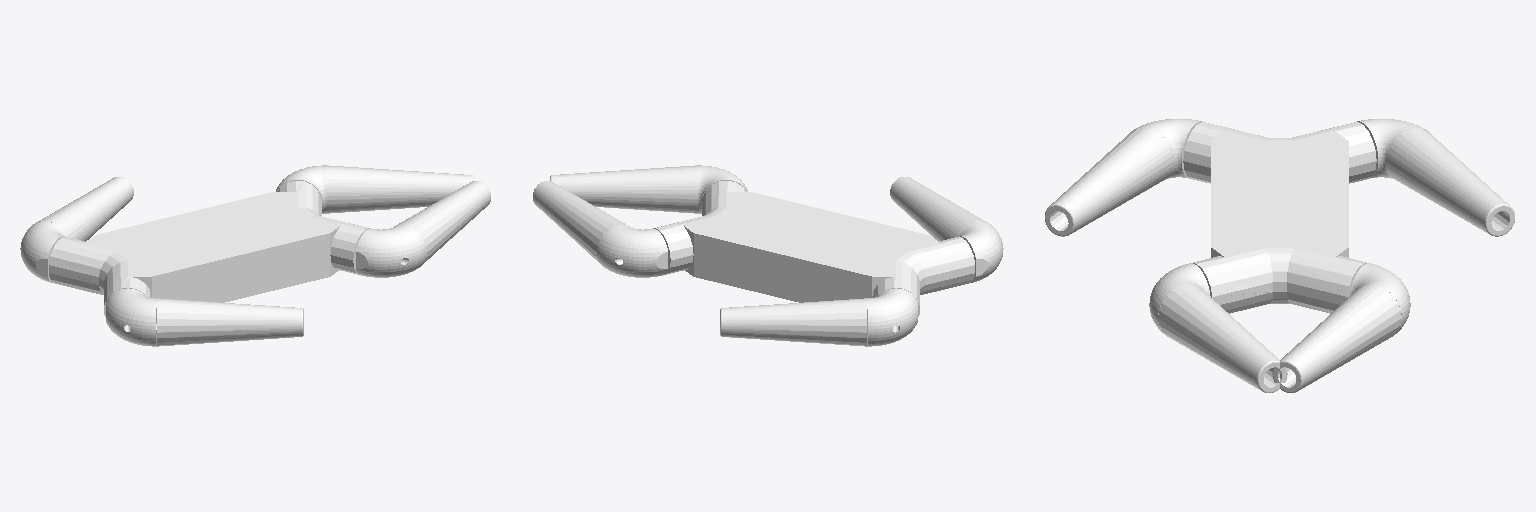
robot.urdf — 30_degree:
<?xml version="1.0" encoding="utf-8"?>
<!-- This URDF was automatically created by SolidWorks to URDF Exporter! Originally created by [author] ([email redacted]) 
     Commit Version: 1.5.1-0-g916b5db  Build Version: 1.5.7152.31018
     For more information, please see http://wiki.ros.org/sw_urdf_exporter -->
<robot
  name="30_degree">
  <link
    name="base_link">
    <inertial>
      <origin
        xyz="2.0817E-17 8.8198E-08 -1.7347E-18"
        rpy="0 0 0" />
      <mass
        value="2.803" />
      <inertia
        ixx="0.09127265"
        ixy="2.4948E-18"
        ixz="-8.4563E-09"
        iyy="0.047265228"
        iyz="-2.6526E-18"
        izz="0.05400503" />
    </inertial>
    <visual>
      <origin
        xyz="0 0 0"
        rpy="0 0 0" />
      <geometry>
        <mesh
          filename="package://30_degree/meshes/base_link.STL" />
      </geometry>
      <material
        name="">
        <color
          rgba="1 1 1 1" />
      </material>
    </visual>
    <collision>
      <origin
        xyz="0 0 0"
        rpy="0 0 0" />
      <geometry>
        <mesh
          filename="package://30_degree/meshes/base_link.STL" />
      </geometry>
    </collision>
  </link>
  <link
    name="left_fromt_link">
    <inertial>
      <origin
        xyz="-8.1504E-08 0.085051 0.0068453"
        rpy="0 0 0" />
      <mass
        value="0.0991" />
      <inertia
        ixx="0.000486975"
        ixy="-1.3955E-10"
        ixz="1.027E-09"
        iyy="0.000136776"
        iyz="-0.000172343"
        izz="0.000400896" />
    </inertial>
    <visual>
      <origin
        xyz="0 0 0"
        rpy="0 0 0" />
      <geometry>
        <mesh
          filename="package://30_degree/meshes/left_fromt_link.STL" />
      </geometry>
      <material
        name="">
        <color
          rgba="1 1 1 1" />
      </material>
    </visual>
    <collision>
      <origin
        xyz="0 0 0"
        rpy="0 0 0" />
      <geometry>
        <mesh
          filename="package://30_degree/meshes/left_fromt_link.STL" />
      </geometry>
    </collision>
  </link>
  <joint
    name="left_front_leg"
    type="continuous">
    <origin
      xyz="0.1815 0.089201 0"
      rpy="1.5708 1.5708 0" />
    <parent
      link="base_link" />
    <child
      link="left_fromt_link" />
    <axis
      xyz="0 0.5 -0.86603" />
    <limit
      effort="5"
      velocity="487" />
  </joint>
  <link
    name="right_front_link">
    <inertial>
      <origin
        xyz="8.1504E-08 0.085051 -0.0068453"
        rpy="0 0 0" />
      <mass
        value="0.0991" />
      <inertia
        ixx="0.000486975"
        ixy="1.3955E-10"
        ixz="1.027E-09"
        iyy="0.000136776"
        iyz="0.000172343"
        izz="0.000400896" />
    </inertial>
    <visual>
      <origin
        xyz="0 0 0"
        rpy="0 0 0" />
      <geometry>
        <mesh
          filename="package://30_degree/meshes/right_front_link.STL" />
      </geometry>
      <material
        name="">
        <color
          rgba="1 1 1 1" />
      </material>
    </visual>
    <collision>
      <origin
        xyz="0 0 0"
        rpy="0 0 0" />
      <geometry>
        <mesh
          filename="package://30_degree/meshes/right_front_link.STL" />
      </geometry>
    </collision>
  </link>
  <joint
    name="right_front_leg"
    type="continuous">
    <origin
      xyz="0.1815 -0.089201 0"
      rpy="1.5708 1.5708 0" />
    <parent
      link="base_link" />
    <child
      link="right_front_link" />
    <axis
      xyz="0 0.5 0.86603" />
    <limit
      effort="5"
      velocity="487" />
  </joint>
  <link
    name="right_back_link">
    <inertial>
      <origin
        xyz="6.7228E-08 0.077079 0.036597"
        rpy="0 0 0" />
      <mass
        value="0.0991" />
      <inertia
        ixx="0.000486975"
        ixy="-5.7063E-10"
        ixz="6.8334E-10"
        iyy="0.000053553"
        iyz="-0.000028196"
        izz="0.000484119" />
    </inertial>
    <visual>
      <origin
        xyz="0 0 0"
        rpy="0 0 0" />
      <geometry>
        <mesh
          filename="package://30_degree/meshes/right_back_link.STL" />
      </geometry>
      <material
        name="">
        <color
          rgba="1 1 1 1" />
      </material>
    </visual>
    <collision>
      <origin
        xyz="0 0 0"
        rpy="0 0 0" />
      <geometry>
        <mesh
          filename="package://30_degree/meshes/right_back_link.STL" />
      </geometry>
    </collision>
  </link>
  <joint
    name="right_back_leg"
    type="continuous">
    <origin
      xyz="-0.1815 -0.089201 0"
      rpy="2.0944 1.5708 0" />
    <parent
      link="base_link" />
    <child
      link="right_back_link" />
    <axis
      xyz="0 0 1" />
    <limit
      effort="5"
      velocity="487" />
  </joint>
  <link
    name="left_back_link">
    <inertial>
      <origin
        xyz="-6.7228E-08 0.048454 -0.070233"
        rpy="0 0 0" />
      <mass
        value="0.0991" />
      <inertia
        ixx="0.000486975"
        ixy="8.3585E-10"
        ixz="3.0648E-10"
        iyy="0.000185613"
        iyz="0.000200539"
        izz="0.000352059" />
    </inertial>
    <visual>
      <origin
        xyz="0 0 0"
        rpy="0 0 0" />
      <geometry>
        <mesh
          filename="package://30_degree/meshes/left_back_link.STL" />
      </geometry>
      <material
        name="">
        <color
          rgba="1 1 1 1" />
      </material>
    </visual>
    <collision>
      <origin
        xyz="0 0 0"
        rpy="0 0 0" />
      <geometry>
        <mesh
          filename="package://30_degree/meshes/left_back_link.STL" />
      </geometry>
    </collision>
  </link>
  <joint
    name="left_back_leg"
    type="continuous">
    <origin
      xyz="-0.1815 0.089201 0"
      rpy="1.5708 1.5708 0" />
    <parent
      link="base_link" />
    <child
      link="left_back_link" />
    <axis
      xyz="0 -0.5 -0.86603" />
    <limit
      effort="5"
      velocity="487" />
  </joint>
</robot>

--- What the picture shows (computed from the rendered views, not written in the file) ---
3 views of the same robot in one strip: view 1: azimuth 30°, elevation 25°; view 2: azimuth 150°, elevation 25°; view 3: azimuth 270°, elevation 25° (orthographic).
Model 30_degree with 5 links and 4 joints (4 continuous), rooted at base_link, posed all joints at 0.
Visible links, largest first — view 1: base_link, right_back_link, right_front_link, left_fromt_link, left_back_link; view 2: base_link, left_back_link, left_fromt_link, right_front_link, right_back_link; view 3: base_link, right_back_link, left_back_link, left_fromt_link, right_front_link.
Link boxes in pixels (left/top/right/bottom): base_link: left=49, top=181, right=369, bottom=316; right_back_link: left=106, top=288, right=303, bottom=346; right_front_link: left=356, top=181, right=490, bottom=277; left_fromt_link: left=276, top=165, right=473, bottom=213; left_back_link: left=20, top=177, right=133, bottom=282; base_link: left=654, top=181, right=974, bottom=316; left_back_link: left=720, top=288, right=917, bottom=346; left_fromt_link: left=533, top=181, right=667, bottom=277; right_front_link: left=550, top=165, right=747, bottom=213; right_back_link: left=890, top=177, right=1003, bottom=282; base_link: left=1183, top=122, right=1376, bottom=313; right_back_link: left=1045, top=119, right=1202, bottom=236; left_back_link: left=1357, top=119, right=1514, bottom=236; left_fromt_link: left=1272, top=263, right=1410, bottom=392; right_front_link: left=1149, top=263, right=1287, bottom=392.
Size in the robot's own frame: 0.6317 by 0.5125 by 0.064 metres.
Meshes: 5 distinct files referenced, 5 mesh visuals loaded (5 binary STL).